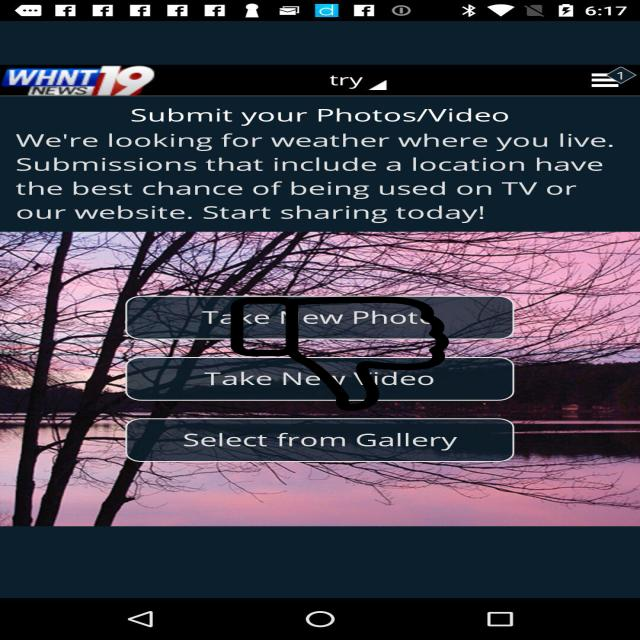obstruction: (228, 296, 452, 411)
